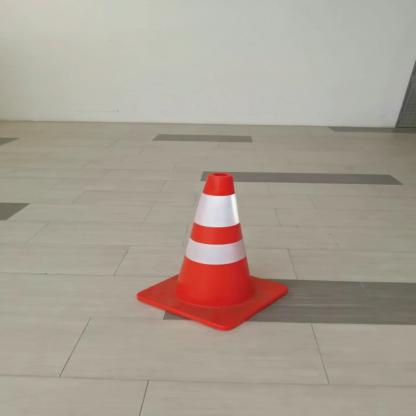cone: (127, 168, 298, 335)
